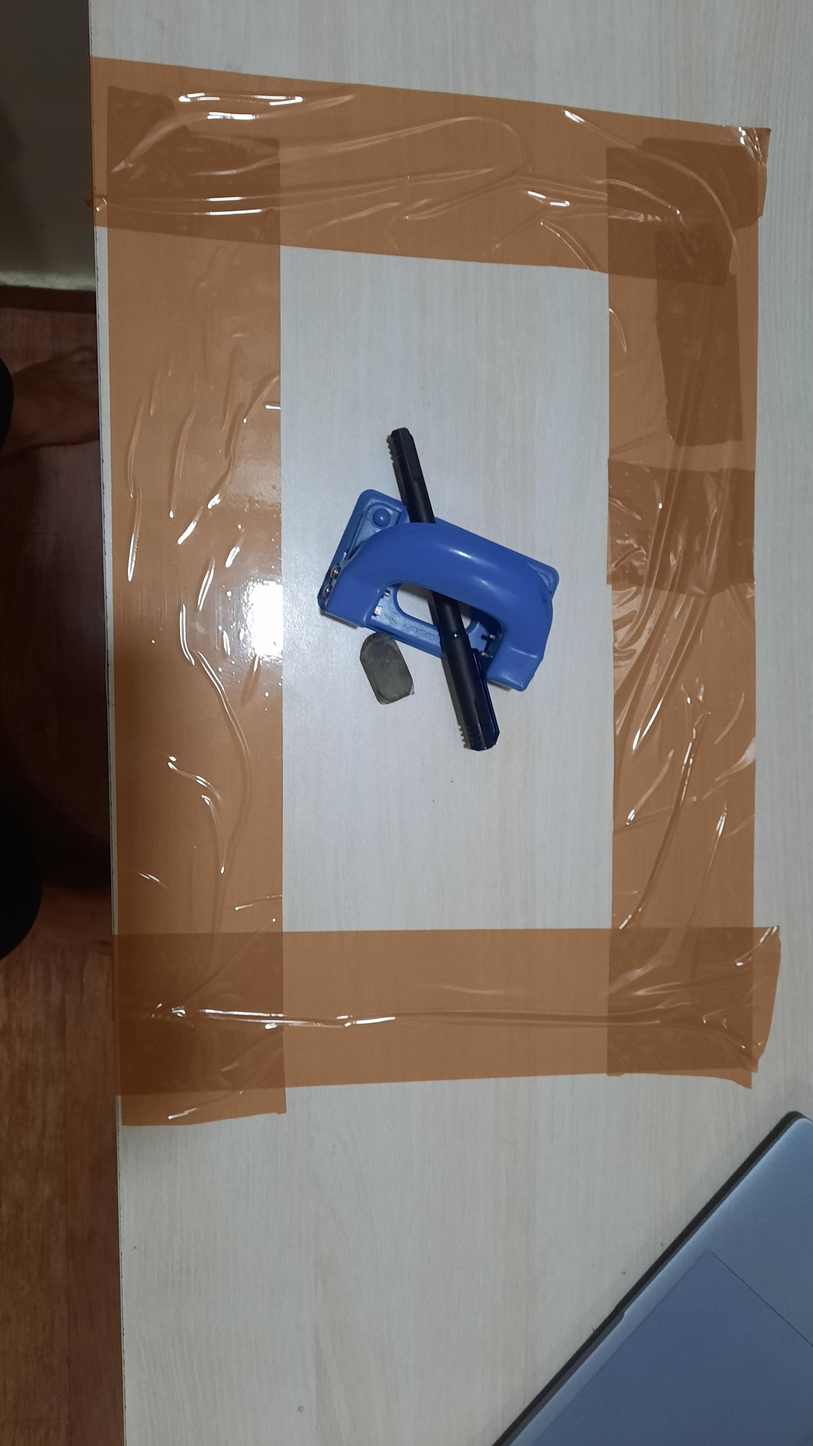Eraser: (358, 632, 415, 705)
Pen: (387, 427, 500, 751)
Punch: (317, 489, 560, 693)
